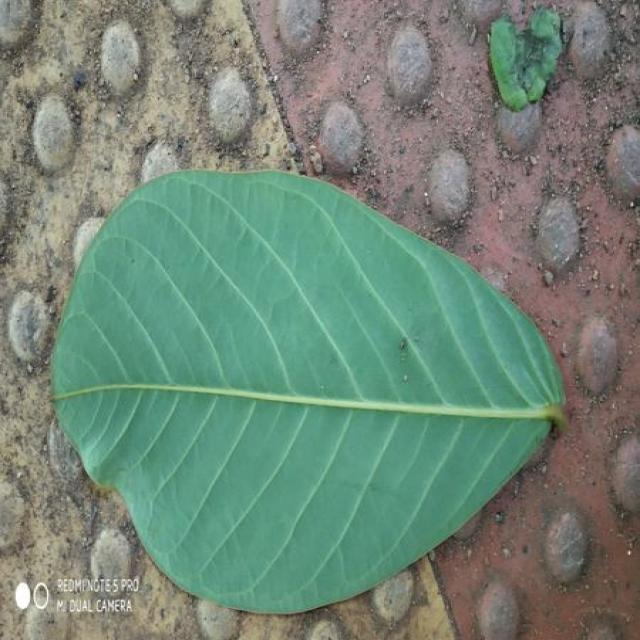chakte: (53, 171, 565, 613)
